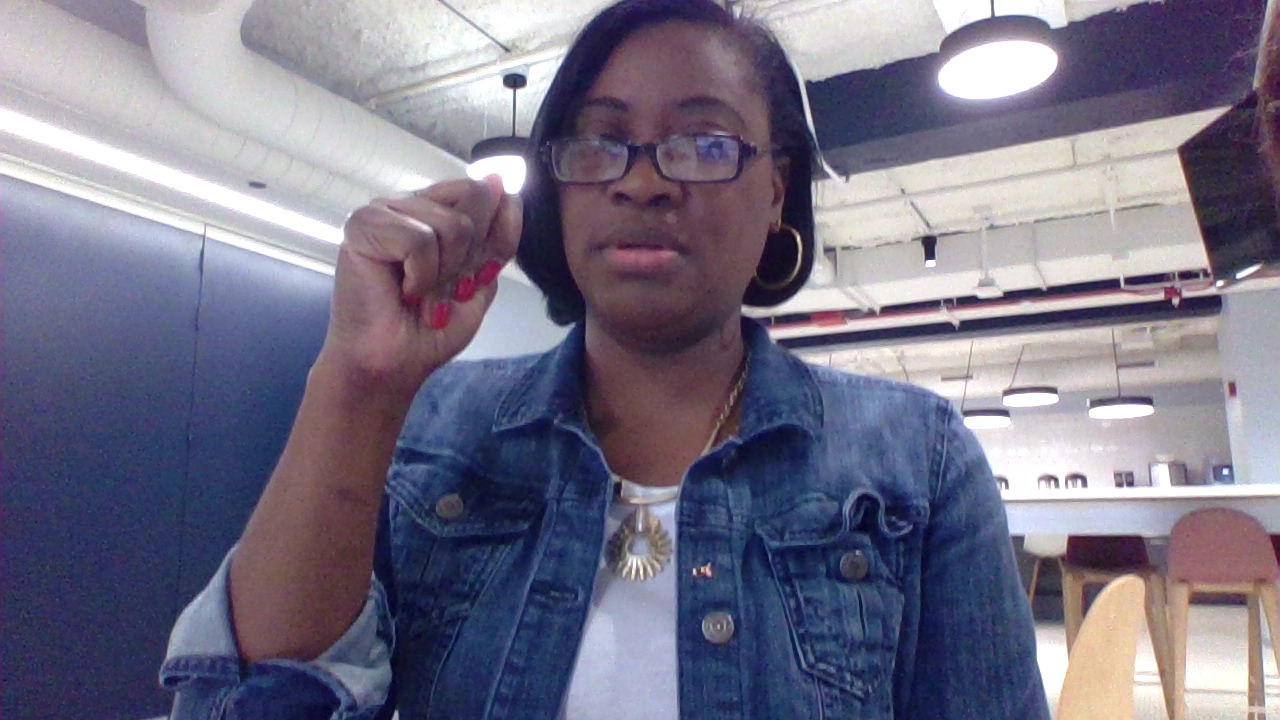t: (291, 154, 537, 424)
